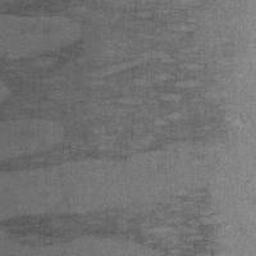Water spot: (0, 0, 229, 174), (0, 187, 225, 256)
